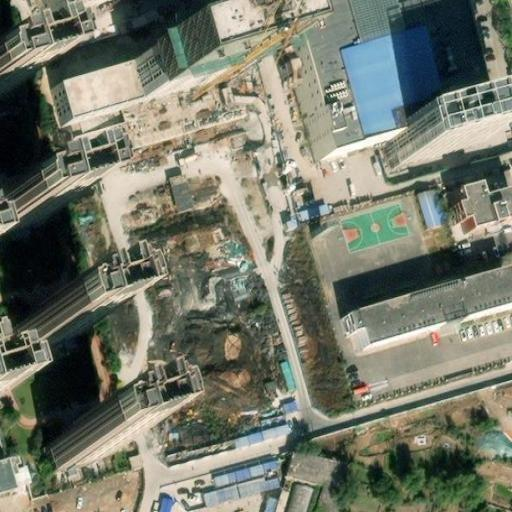building: (332, 273, 504, 352), (121, 31, 242, 98), (367, 116, 468, 177), (47, 64, 131, 120), (0, 170, 79, 226), (49, 415, 117, 467), (15, 292, 83, 344), (445, 182, 510, 233), (215, 461, 276, 487), (289, 449, 332, 485), (232, 422, 288, 448), (234, 472, 280, 499), (166, 173, 195, 213), (417, 188, 444, 228), (203, 483, 238, 507), (289, 486, 312, 512), (280, 396, 301, 415), (161, 497, 172, 512), (265, 499, 276, 512)
